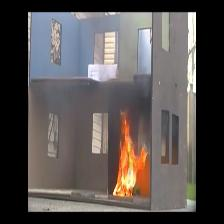fire: (116, 110, 144, 197)
smoke: (114, 83, 144, 107)
